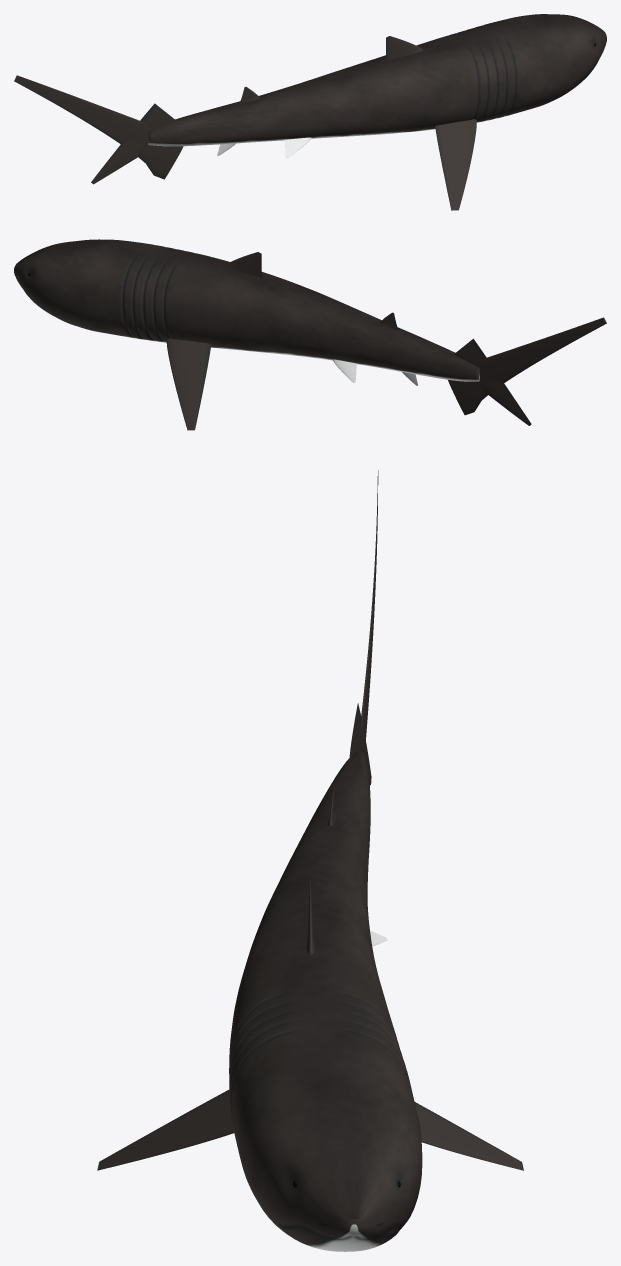
Rendered from megamouth_shark.glb.
3 views of the same model, one above another, from view 1: azimuth 30°, elevation 25°; view 2: azimuth 150°, elevation 25°; view 3: azimuth 270°, elevation 25° (orthographic). The views are drawn at different scales.
Parts seen in each view (by area): view 1: MegamouthShark_Body, MegamouthShark_Fins; view 2: MegamouthShark_Body, MegamouthShark_Fins; view 3: MegamouthShark_Body, MegamouthShark_Fins.
Part boxes in pixels (x1,y1,x2,y2): MegamouthShark_Body: [148, 14, 606, 146]; MegamouthShark_Fins: [14, 36, 476, 210]; MegamouthShark_Body: [14, 239, 479, 381]; MegamouthShark_Fins: [166, 252, 606, 430]; MegamouthShark_Body: [229, 750, 422, 1251]; MegamouthShark_Fins: [97, 470, 523, 1170].
Size of the model in its own units: 5 by 1.42 by 1.58.
3 materials, 1 textured.
